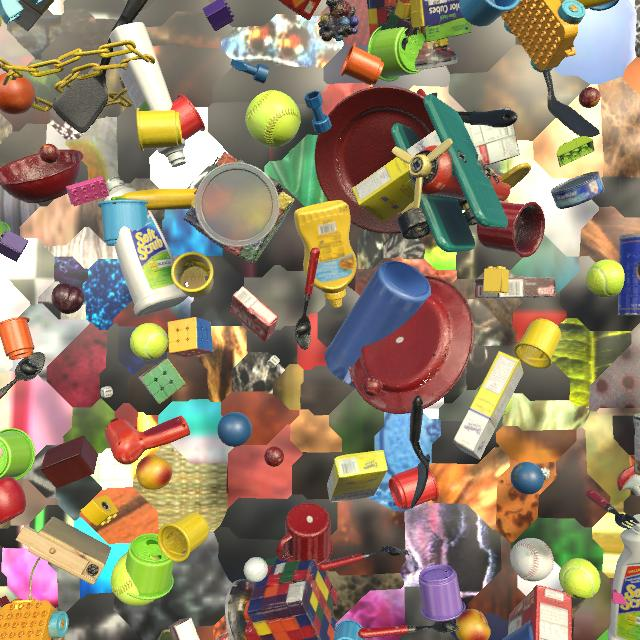ycb_002_master_chef_can: (618, 233, 640, 316)
ycb_003_cracker_box: (508, 585, 572, 640), (278, 0, 321, 20)
ycb_004_sugar_box: (352, 130, 441, 223), (453, 351, 523, 460), (327, 450, 388, 502), (13, 0, 55, 31)
ycb_005_tomato_soup_can: (633, 413, 640, 476), (215, 631, 231, 640)
ycb_006_mustard_bottle: (294, 200, 357, 308)
ycb_007_tuna_fish_can: (550, 171, 604, 209)
ycb_008_pudding_box: (463, 106, 520, 166), (475, 276, 555, 298), (169, 617, 200, 640)
ycb_009_gelatin_box: (230, 286, 278, 342)
ycb_010_potted_meat_can: (157, 629, 173, 640)
ycb_011_banana: (111, 188, 197, 210), (559, 0, 616, 9)
ycb_013_apple: (0, 477, 26, 525)
ycb_015_peach: (136, 455, 173, 490), (455, 609, 491, 640)
ycb_017_orange: (0, 73, 35, 115)
ycb_018_plum: (51, 283, 84, 314)
